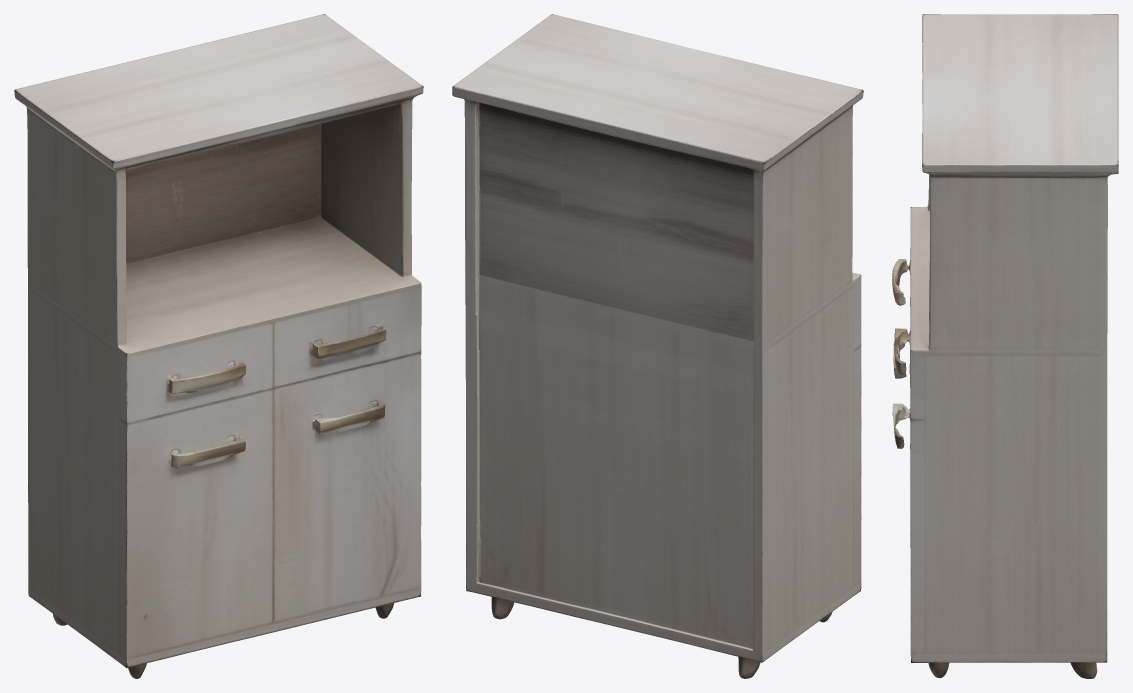
The model's file is barcelona_microwave_stand_baf.glb.
The picture shows the model from 3 angles, left to right: view 1: azimuth 30°, elevation 25°; view 2: azimuth 150°, elevation 25°; view 3: azimuth 270°, elevation 25°; orthographic projection.
Visible parts, largest first — view 1: world; view 2: world; view 3: world.
Boxes of the visible parts, bbox=[...] form: world: bbox=[14, 14, 423, 678]; world: bbox=[452, 14, 863, 678]; world: bbox=[892, 14, 1118, 678].
Size of the model in its own units: 0.6137 by 1 by 0.3891.
1 material, 1 textured.
